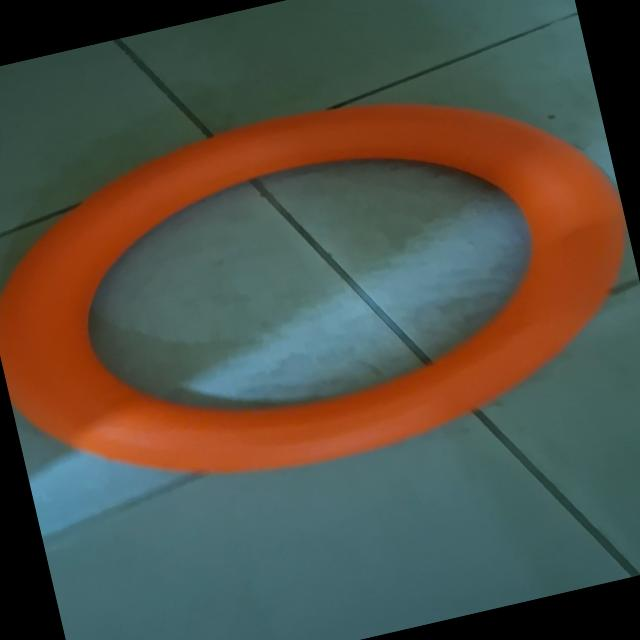note: (0, 45, 640, 528)
